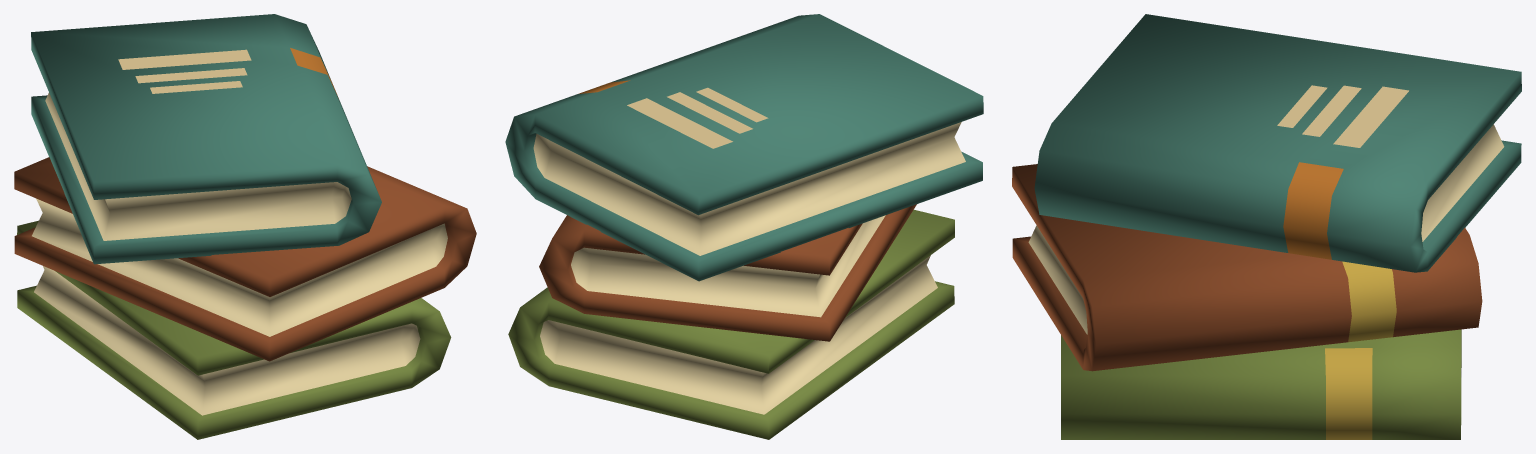
The model's file is rpgpp_ag_book_pile_01a.fbx.
3 renders of one model, left to right at view 1: azimuth 30°, elevation 25°; view 2: azimuth 150°, elevation 25°; view 3: azimuth 270°, elevation 25°, orthographic. The views are drawn at different scales.
Parts seen in each view (by area): view 1: rpgpp_ag_book_pile_01a; view 2: rpgpp_ag_book_pile_01a; view 3: rpgpp_ag_book_pile_01a.
Boxes of the visible parts, x1,y1,x2,y2 form: rpgpp_ag_book_pile_01a: [14, 14, 476, 439]; rpgpp_ag_book_pile_01a: [505, 14, 983, 439]; rpgpp_ag_book_pile_01a: [1012, 14, 1521, 439].
Size of the model in its own units: 0.3467 by 0.2271 by 0.3831.
